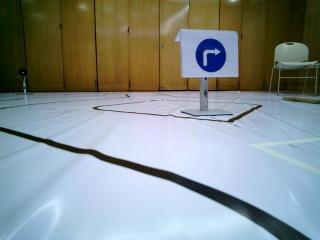right: (181, 31, 236, 77)
